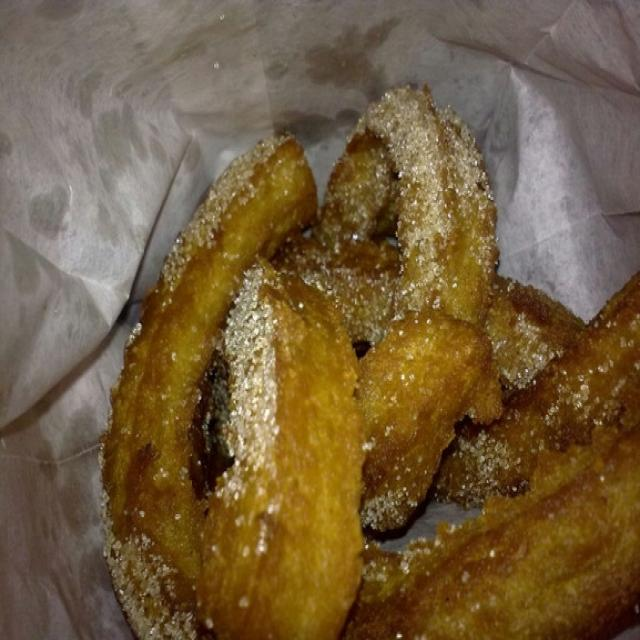炸货点心: (71, 66, 618, 626)
